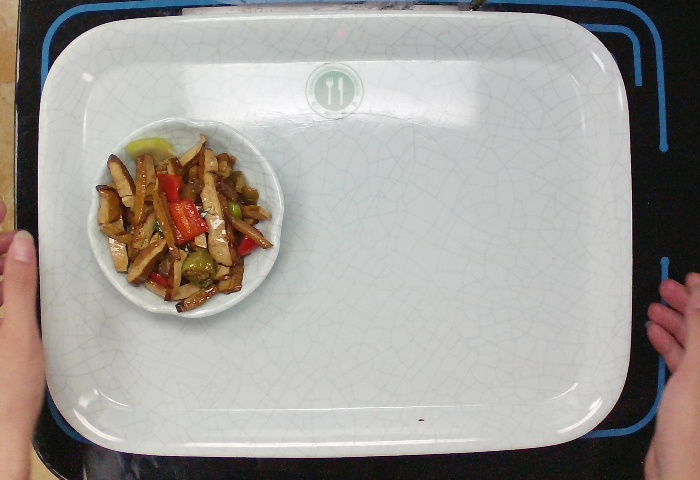JYsf-Ao_Yuan_Wan: (83, 117, 283, 319)
